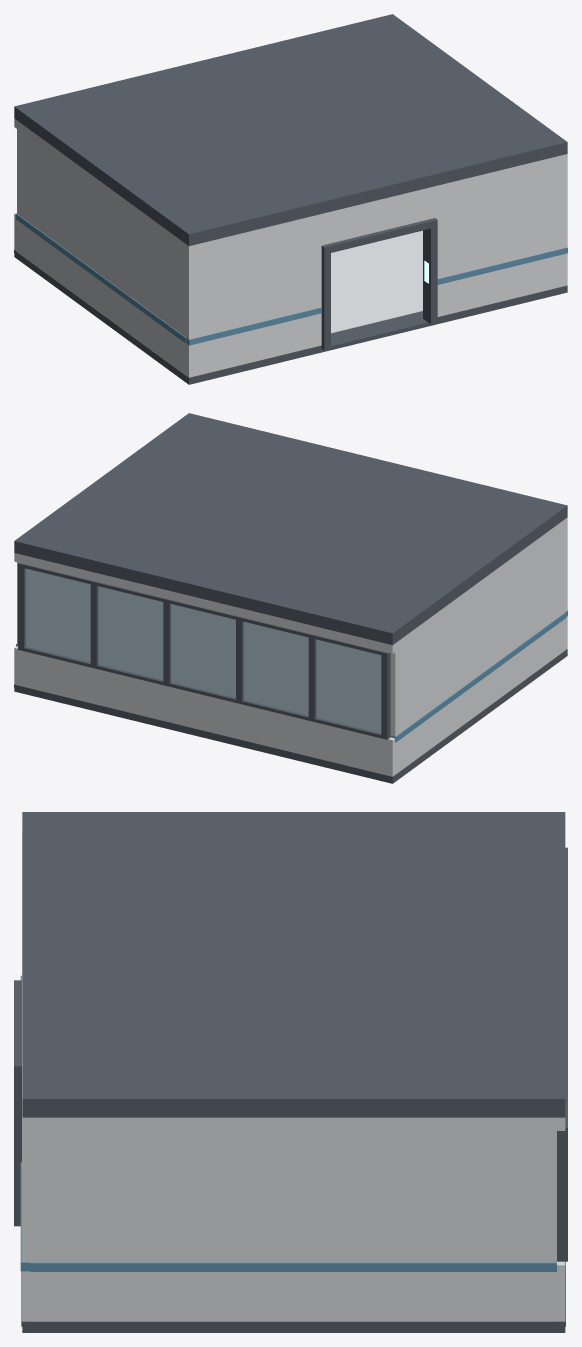
Rendered from spaceship-deck-kit-bridge-shell-cc85c2db__12565.glb.
The picture shows the model from 3 angles, top to bottom: view 1: azimuth 30°, elevation 25°; view 2: azimuth 150°, elevation 25°; view 3: azimuth 270°, elevation 25°; orthographic projection. The views are drawn at different scales.
Visible parts, largest first — view 1: bridge-shell; view 2: bridge-shell; view 3: bridge-shell.
Part boxes in pixels (<box>): bridge-shell: <box>14,14,567,384</box>; bridge-shell: <box>14,413,567,783</box>; bridge-shell: <box>14,812,567,1332</box>.
Bounding box in the file's own units: 10.04 × 3.8 × 8.16.
